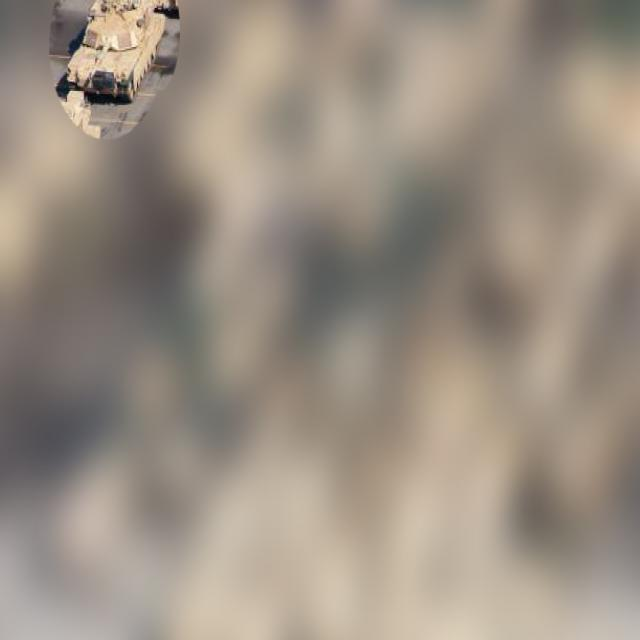tank: (63, 0, 169, 100)
